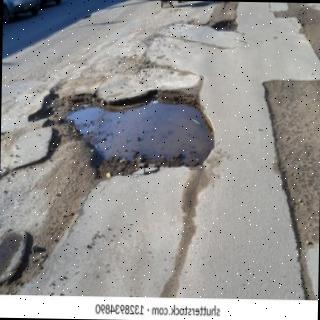pothole: (24, 88, 214, 178)
